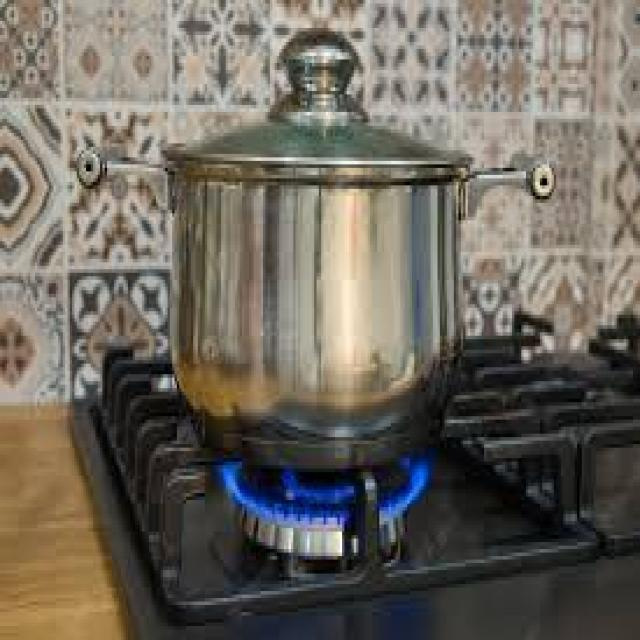Flame: (209, 458, 435, 527)
Pan: (141, 25, 481, 463)
